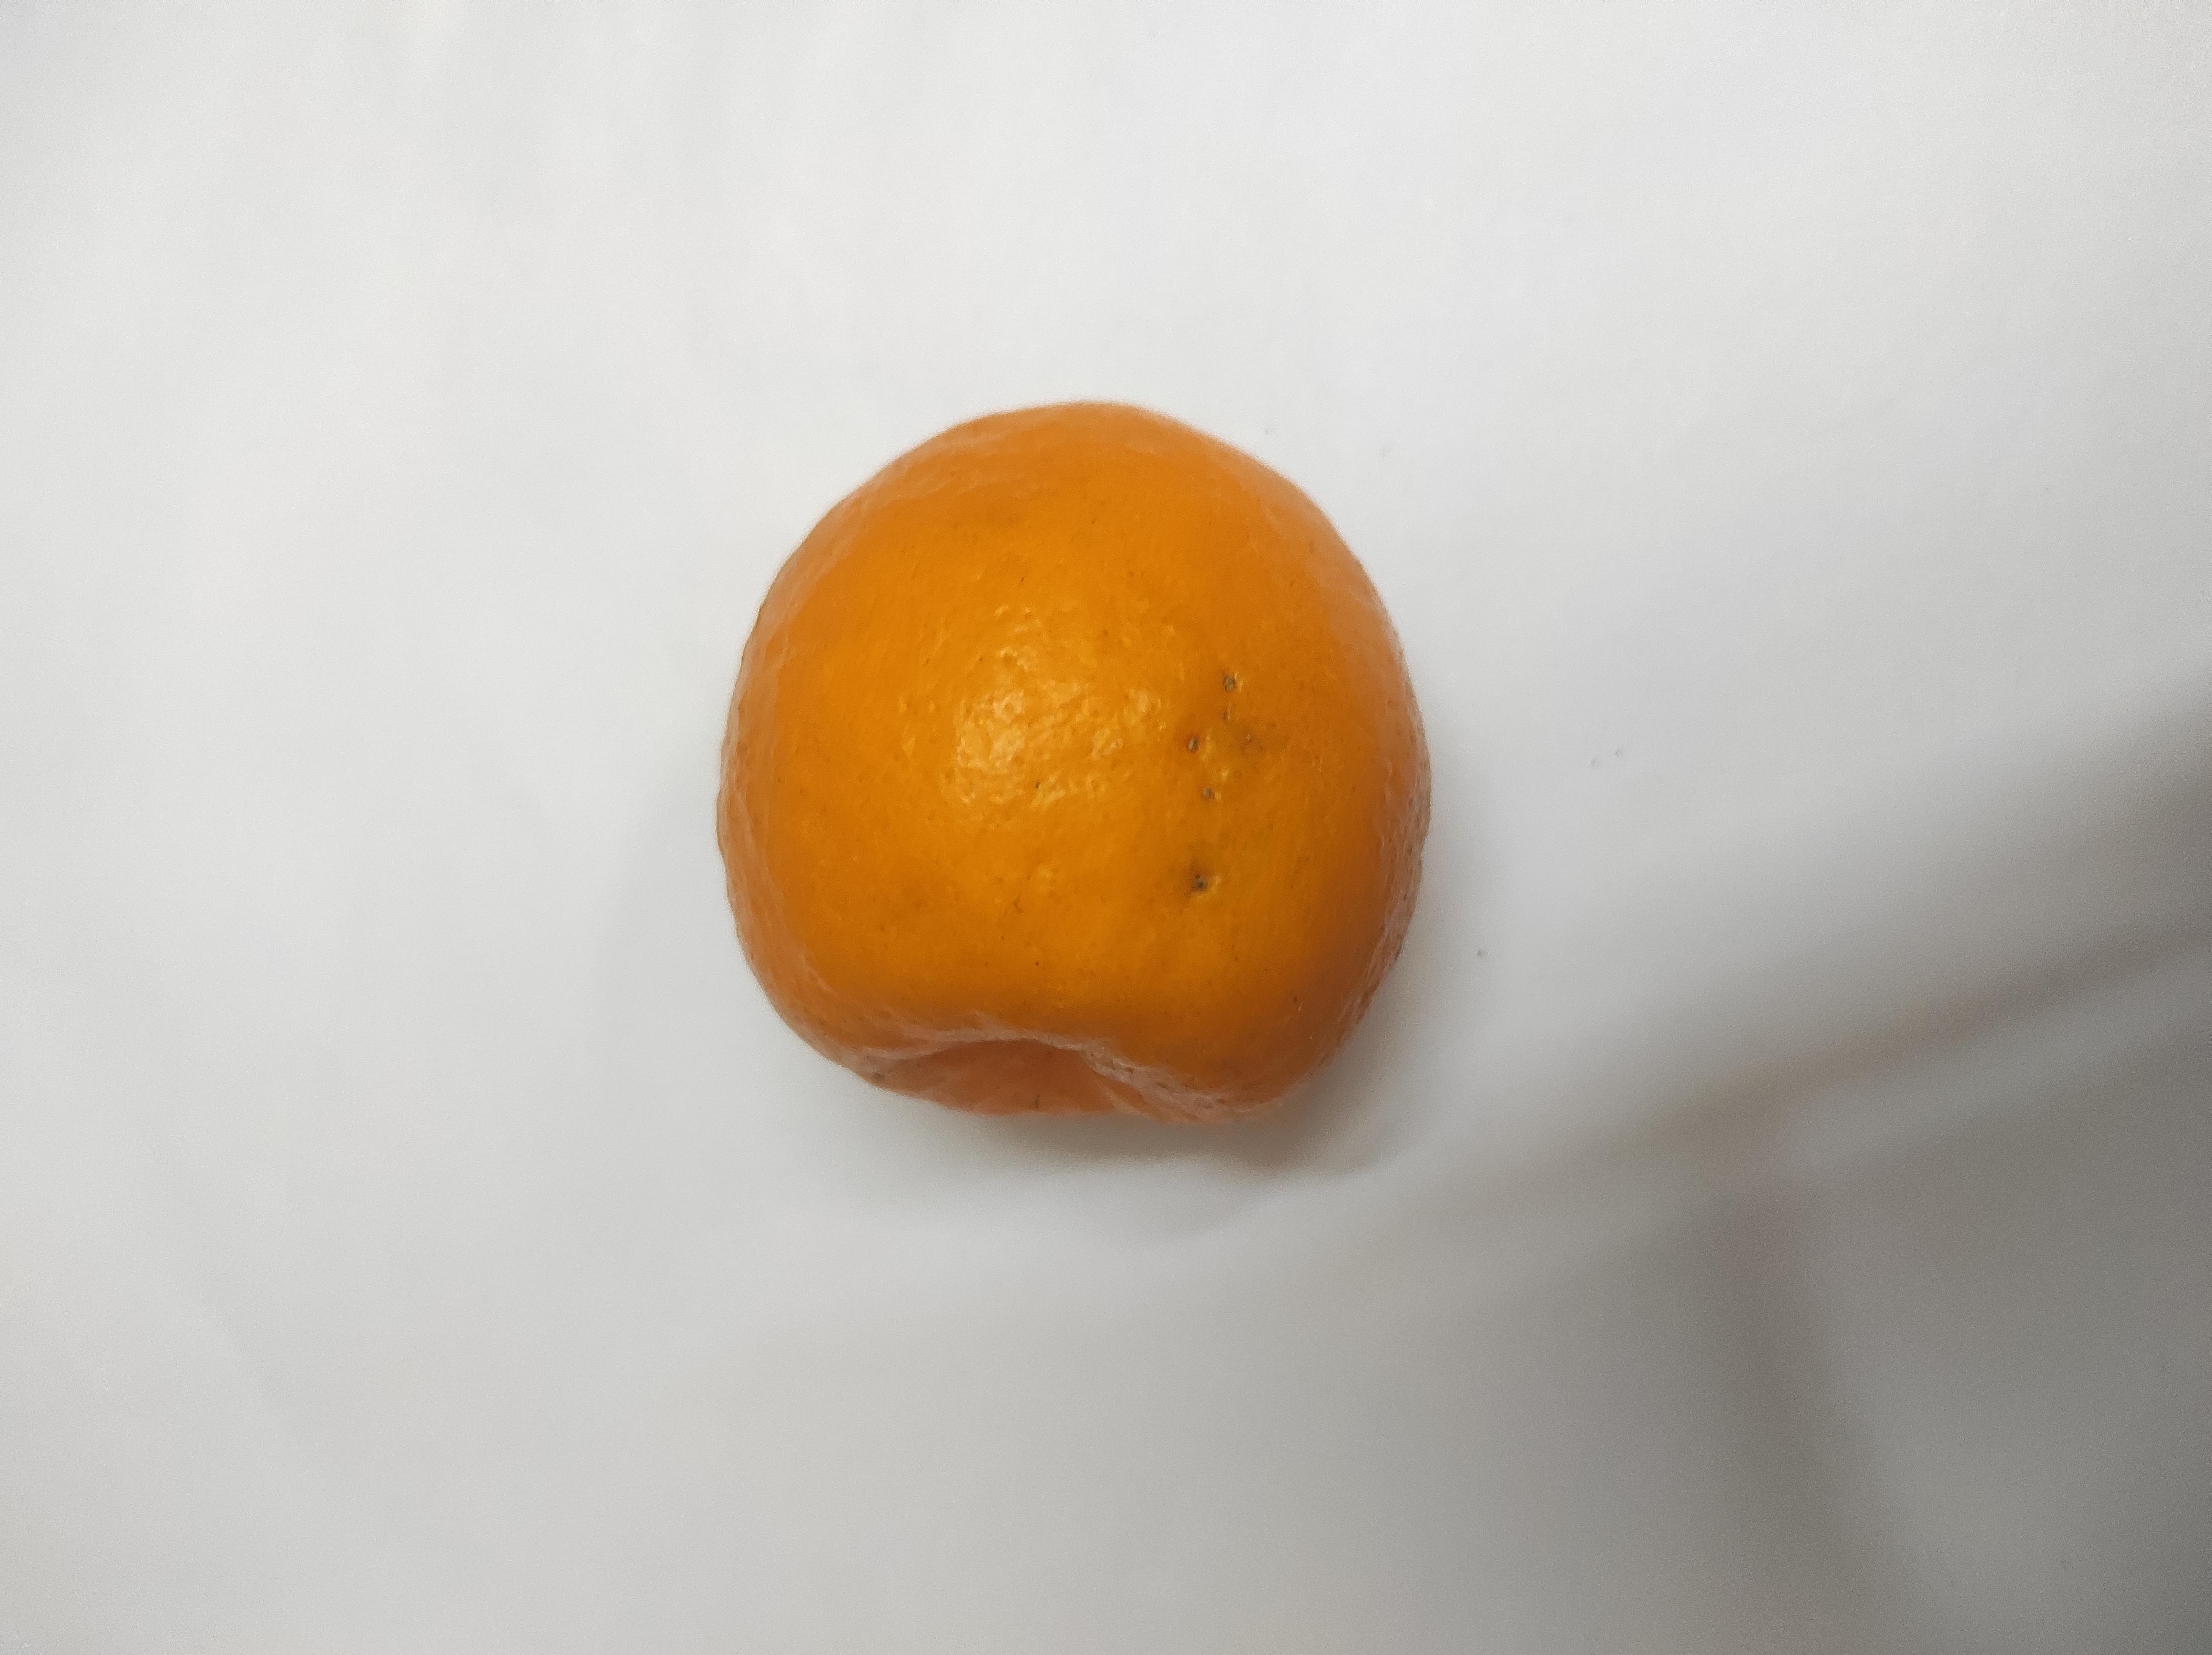Ripe: (706, 410, 1440, 1144)
